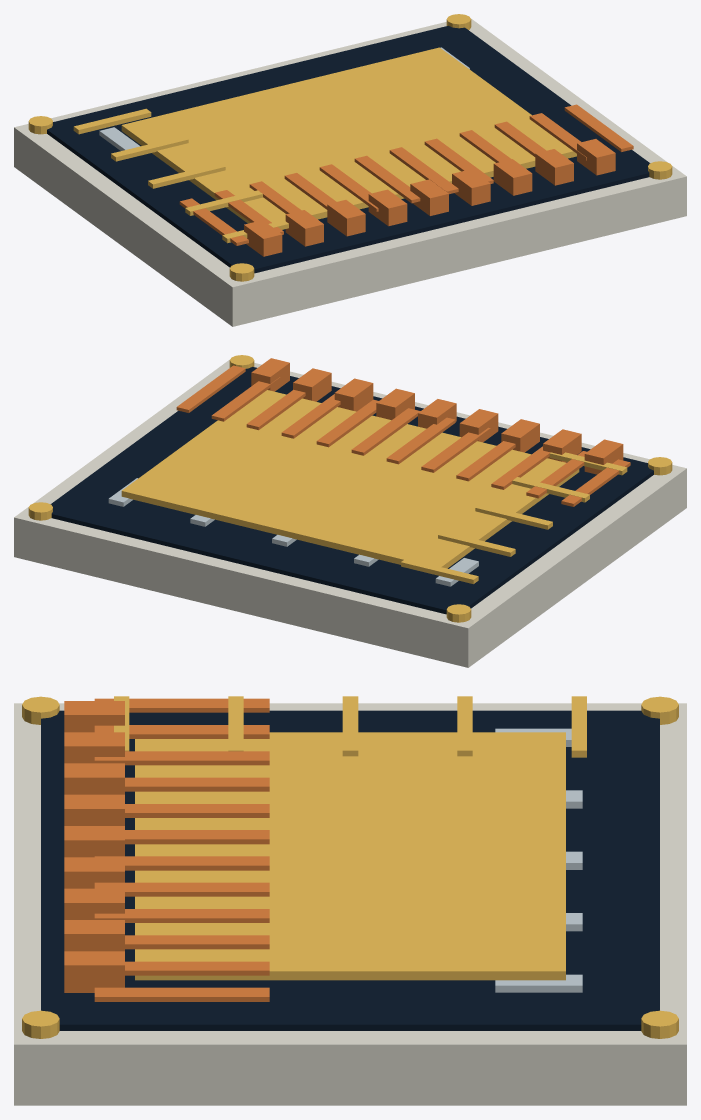
The model's file is 08_L79_IOChiplet.fbx.
3 views of the same model, one above another, from view 1: azimuth 30°, elevation 25°; view 2: azimuth 150°, elevation 25°; view 3: azimuth 270°, elevation 25° (orthographic). The views are drawn at different scales.
Visible parts, largest first — view 1: IOChiplet; view 2: IOChiplet; view 3: IOChiplet.
Boxes of the visible parts, x1,y1,x2,y2 form: IOChiplet: (14, 14, 686, 326); IOChiplet: (14, 355, 686, 667); IOChiplet: (14, 696, 686, 1105).
Bounding box in the file's own units: 120 × 17.45 × 100.
